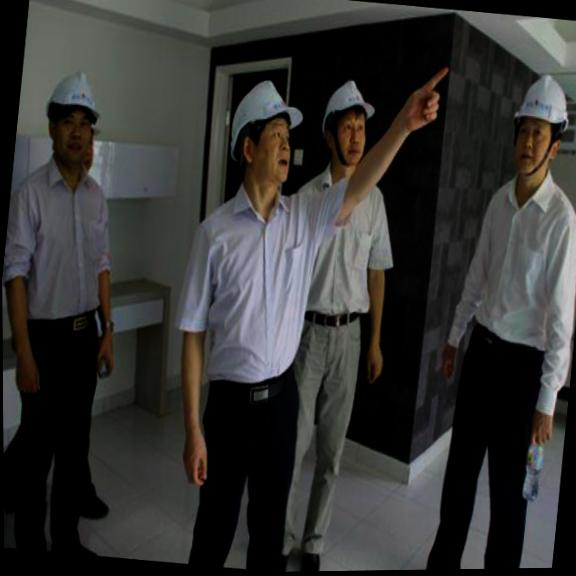no_safety_vest: (164, 157, 358, 398), (274, 148, 408, 360), (441, 156, 576, 361), (1, 144, 127, 339)
